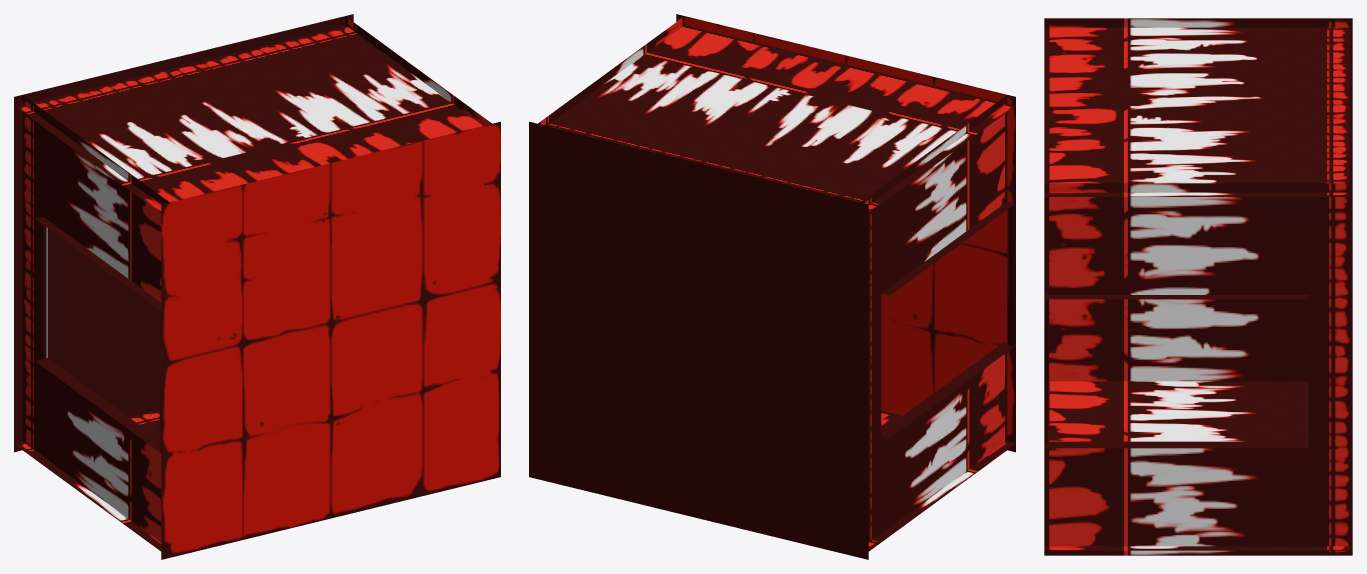
File: Room_RoomSmall2.fbx
3 renders of one model, left to right at view 1: azimuth 30°, elevation 25°; view 2: azimuth 150°, elevation 25°; view 3: azimuth 270°, elevation 25°, orthographic. The views are drawn at different scales.
Visible parts, largest first — view 1: Room_RoomSmall2; view 2: Room_RoomSmall2; view 3: Room_RoomSmall2.
Part boxes in pixels (x1,y1,x2,y2): Room_RoomSmall2: (14, 14, 500, 559); Room_RoomSmall2: (529, 14, 1015, 559); Room_RoomSmall2: (1044, 18, 1352, 555).
Bounding box in the file's own units: 4 × 4 × 3.
1 material, 1 textured.
